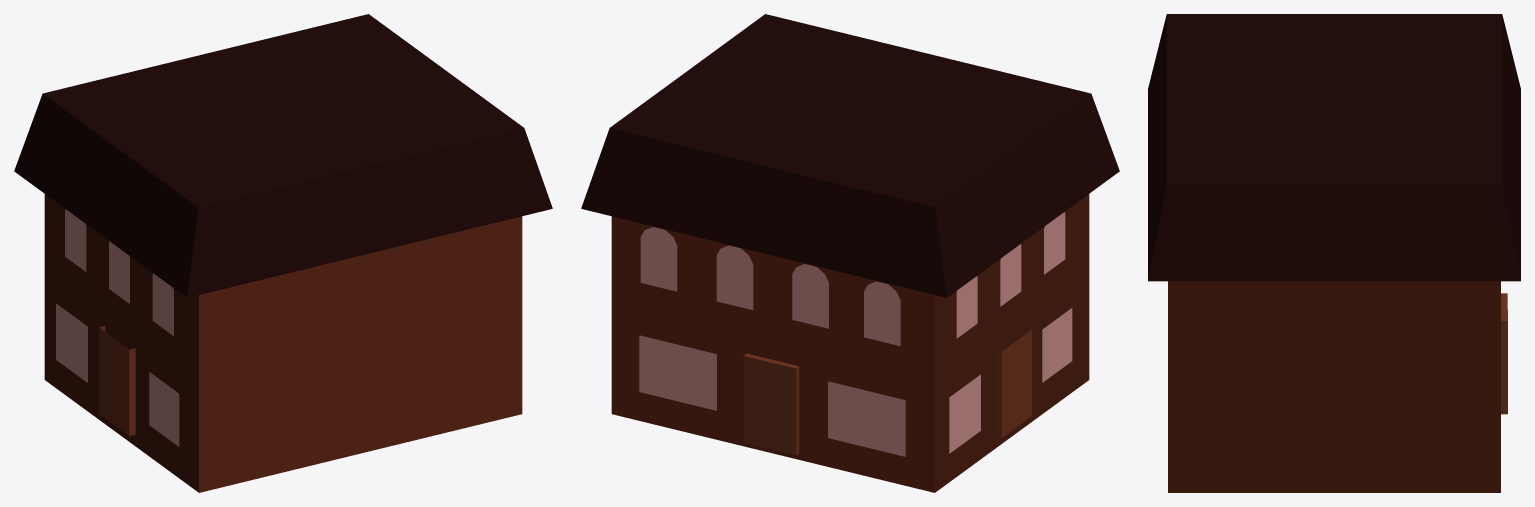
The model's file is Building7.fbx.
3 views of the same model, side by side, from view 1: azimuth 30°, elevation 25°; view 2: azimuth 150°, elevation 25°; view 3: azimuth 270°, elevation 25° (orthographic). The views are drawn at different scales.
Parts seen in each view (by area): view 1: Cube.006; view 2: Cube.006; view 3: Cube.006.
Boxes of the visible parts, bbox=[...] form: Cube.006: bbox=[14, 14, 552, 492]; Cube.006: bbox=[581, 14, 1119, 492]; Cube.006: bbox=[1148, 14, 1520, 492].
Size of the model in its own units: 2133 by 1596 by 1749.
